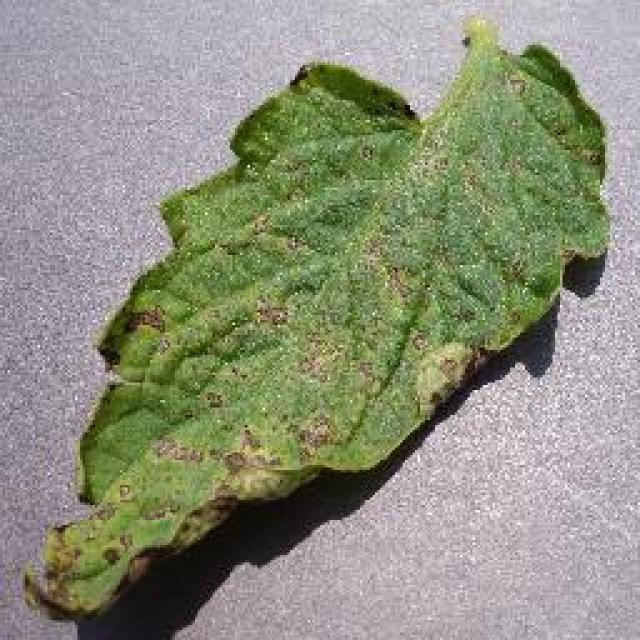Tomato___Septoria_leaf_spot: (25, 20, 605, 612)
